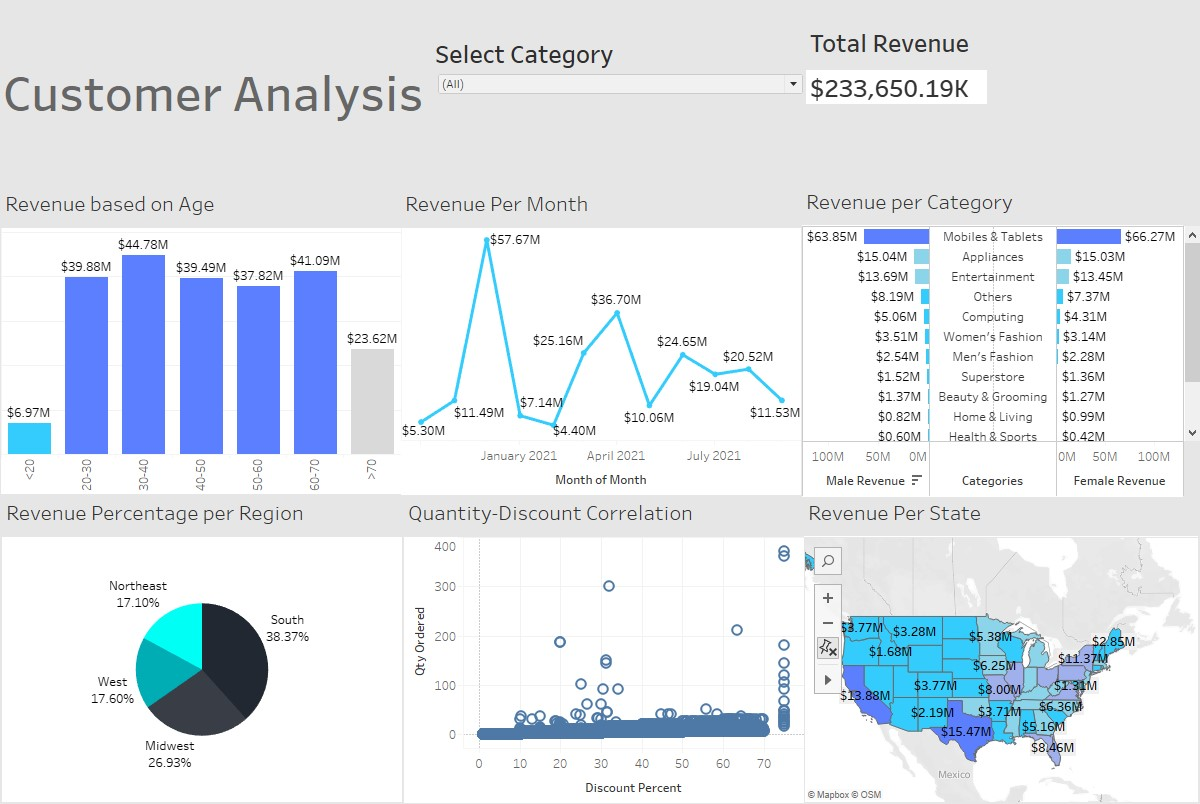

The page's visual inventory and layout, read from the dashboard file:
{"tool":"tableau","page":{"name":"Dashboard","canvas":[1200,800],"ordinal":0},"visuals":[{"type":"worksheet","title":"Total Revenue","mark":"Automatic","box":[805,17,400,158]},{"type":"filter","title":"Revenue per Category","param":"[federated.0qvpk0y1xvlvpi1cojarn0azzoo1].[none:category:nk]","box":[434,32,371,99]},{"type":"worksheet","title":"Revenue per Category","mark":"Automatic","rows":["category"],"cols":["Calculation_1030198416341426177","Calculation_1030198416342306818","Calculation_1030198416340828160"],"box":[801,178,400,314]},{"type":"worksheet","title":"Revenue based on Age","mark":"Automatic","rows":["total"],"cols":["Age (bin)"],"box":[0,180,400,309]},{"type":"worksheet","title":"Revenue Per Month","mark":"Automatic","rows":["total"],"cols":["month"],"box":[400,180,400,310]},{"type":"worksheet","title":"Revenue Percentage per Region","mark":"Pie","box":[1,489,400,308]},{"type":"worksheet","title":"Quantity-Discount Correlation","mark":"Automatic","rows":["qty_ordered"],"cols":["Discount_Percent"],"box":[403,489,400,309]},{"type":"worksheet","title":"Revenue Per State","mark":"Automatic","box":[803,489,395,309]}]}

Visuals, with their boxes in screenshot pixels (x1, y1, x2, y2), scaled from the page's 1200x800 canvas onto the 1200x804 screenshot:
"Total Revenue" worksheet: (805,17,1199,176)
"Revenue per Category" filter: (434,32,805,132)
"Revenue per Category" worksheet: (801,179,1199,494)
"Revenue based on Age" worksheet: (0,181,400,491)
"Revenue Per Month" worksheet: (400,181,800,492)
"Revenue Percentage per Region" worksheet (Pie marks): (1,491,401,801)
"Quantity-Discount Correlation" worksheet: (403,491,803,802)
"Revenue Per State" worksheet: (803,491,1198,802)
